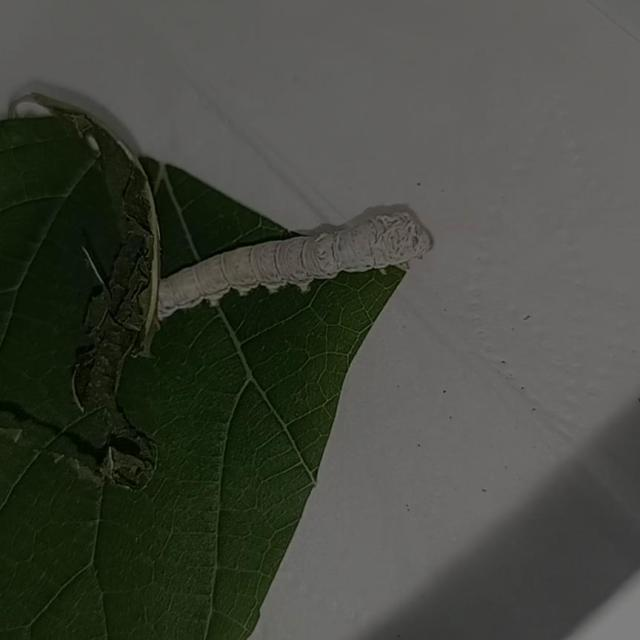Healthy: (140, 196, 443, 327)
